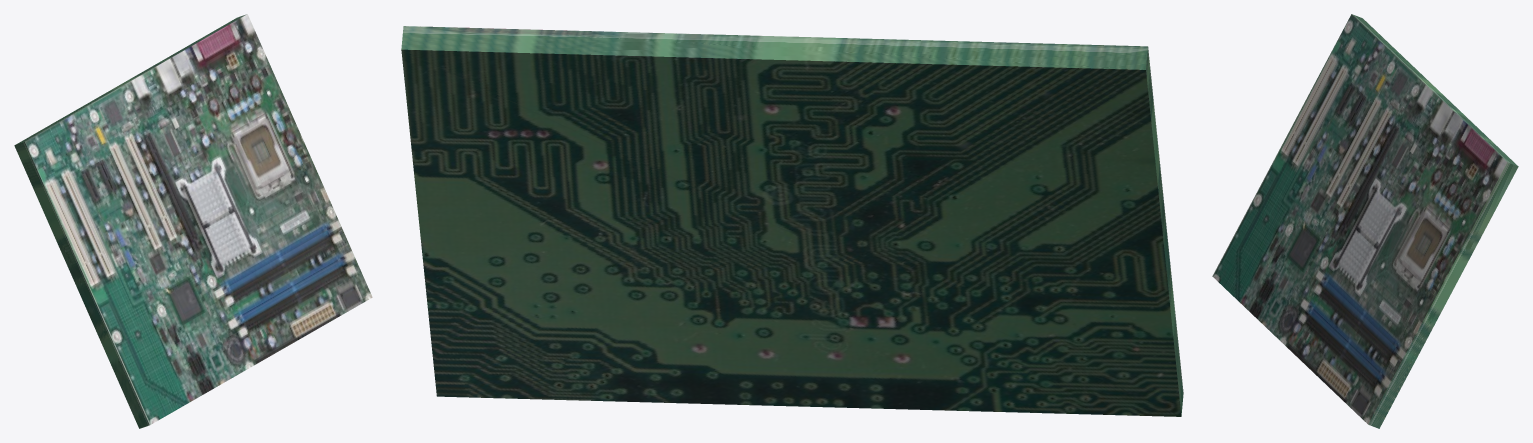
The picture shows the model from 3 angles, left to right: view 1: azimuth 30°, elevation 25°; view 2: azimuth 150°, elevation 25°; view 3: azimuth 270°, elevation 25°; orthographic projection. The views are drawn at different scales.
Parts seen in each view (by area): view 1: Object_5; view 2: Object_5; view 3: Object_5.
Boxes of the visible parts, <box> form: Object_5: <box>14,14,372,428</box>; Object_5: <box>401,26,1183,416</box>; Object_5: <box>1212,14,1518,428</box>.
Bounding box in the file's own units: 0.2988 × 0.202 × 0.2259.
Materials: 1 (1 with a texture image).
